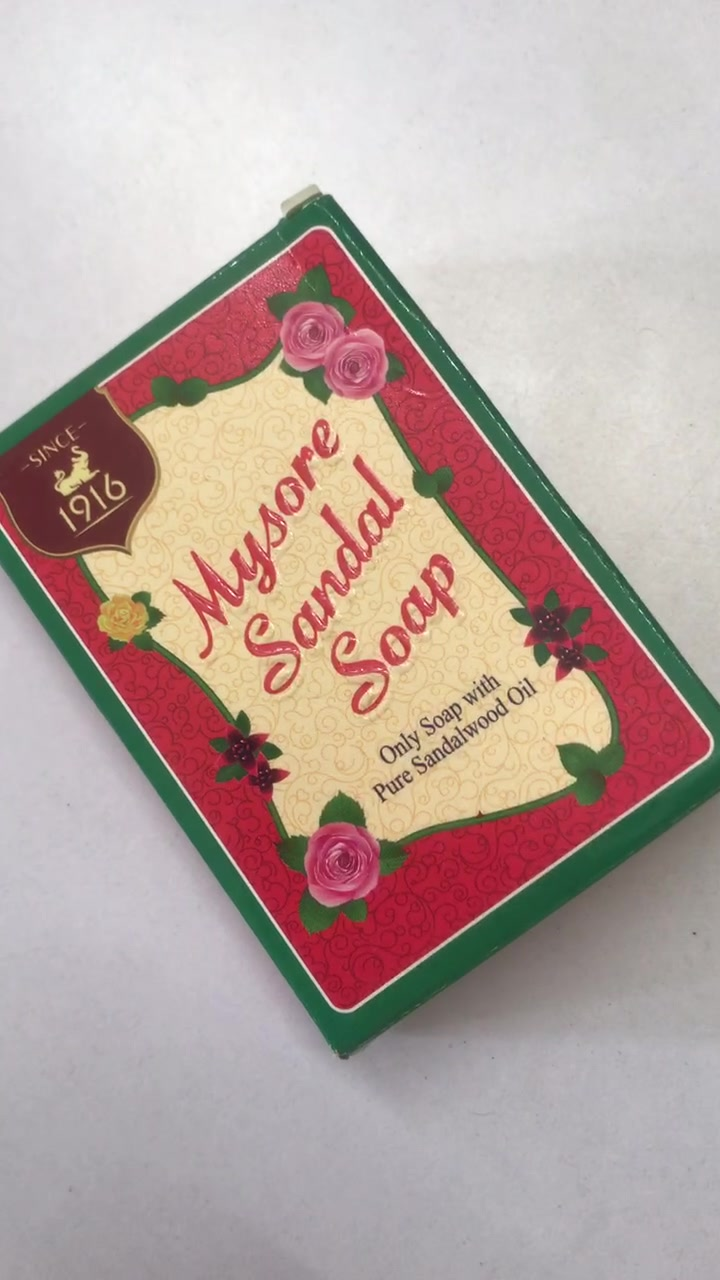mysore sandal soap: (2, 203, 720, 1059)
